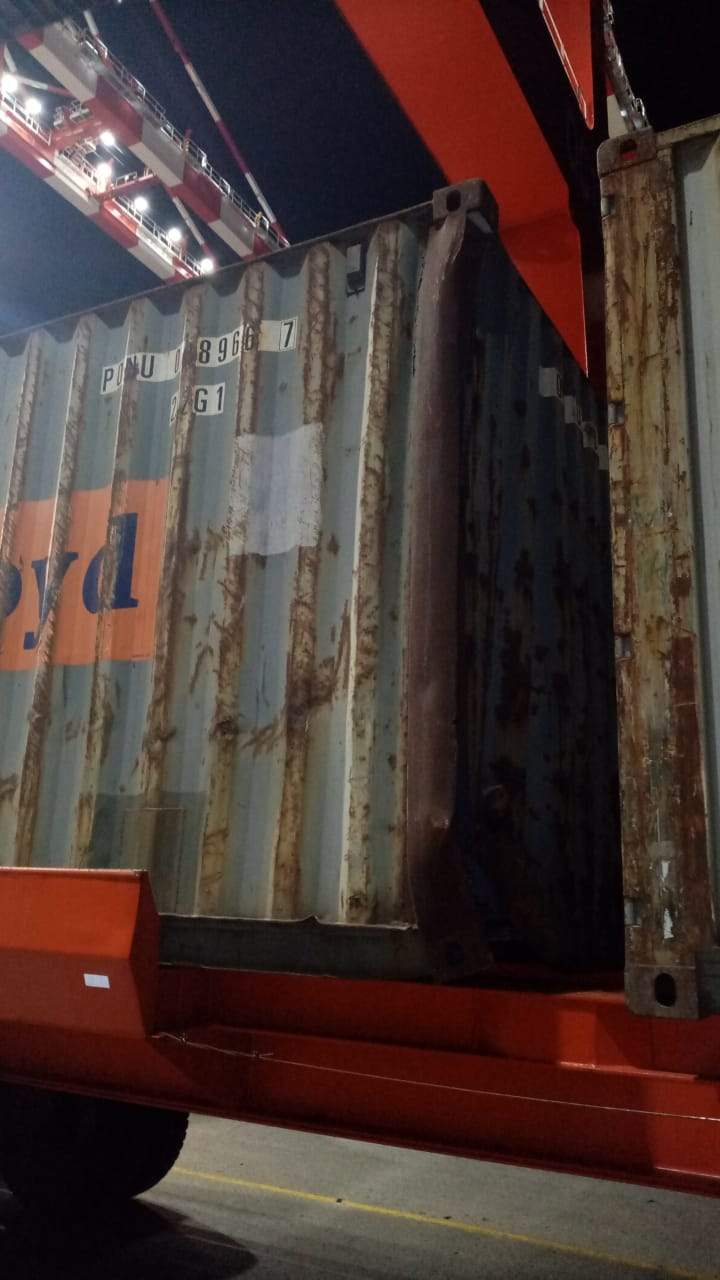bulged: (348, 226, 487, 479)
rust: (132, 641, 374, 776)
